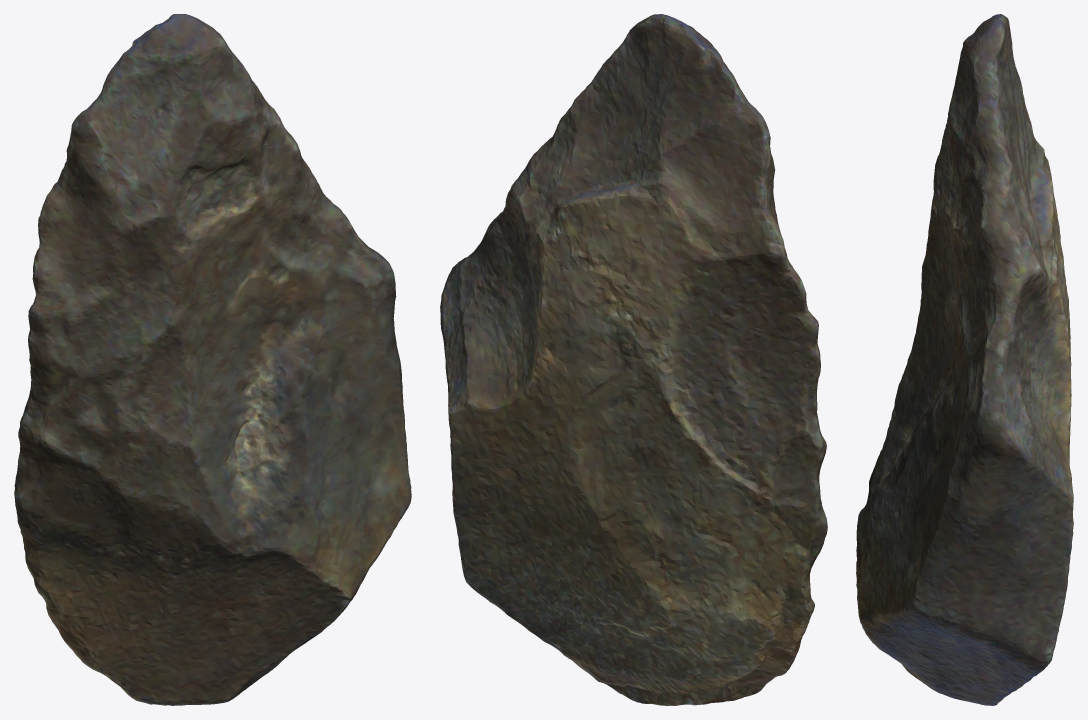
Rendered from NM_Faustkeil_20k.dae.
The picture shows the model from 3 angles, left to right: view 1: azimuth 30°, elevation 25°; view 2: azimuth 150°, elevation 25°; view 3: azimuth 270°, elevation 25°; orthographic projection. The views are drawn at different scales.
Visible parts, largest first — view 1: node; view 2: node; view 3: node.
Boxes of the visible parts, left/top/right/bottom form: node: left=14, top=14, right=411, bottom=705; node: left=440, top=14, right=827, bottom=705; node: left=856, top=14, right=1073, bottom=705.
Size of the model in its own units: 58.57 by 101 by 29.91.
